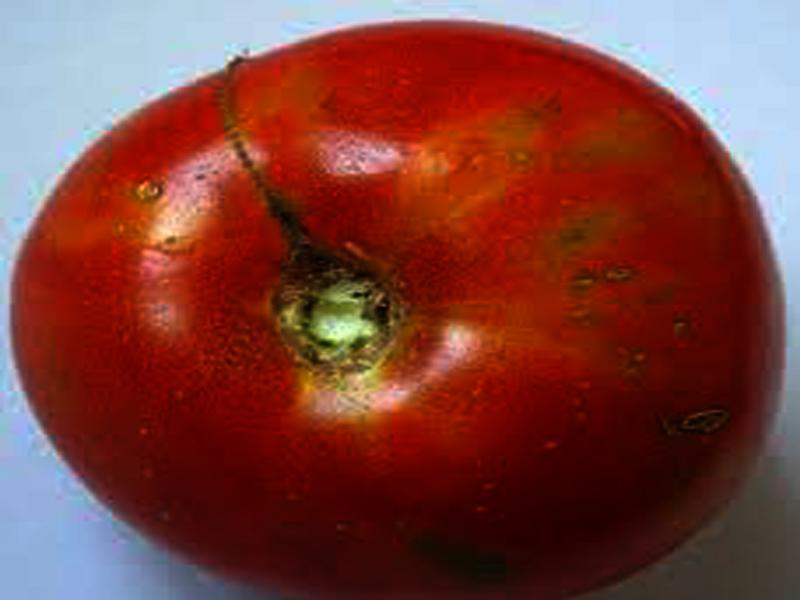Tomato: (7, 22, 779, 597)
